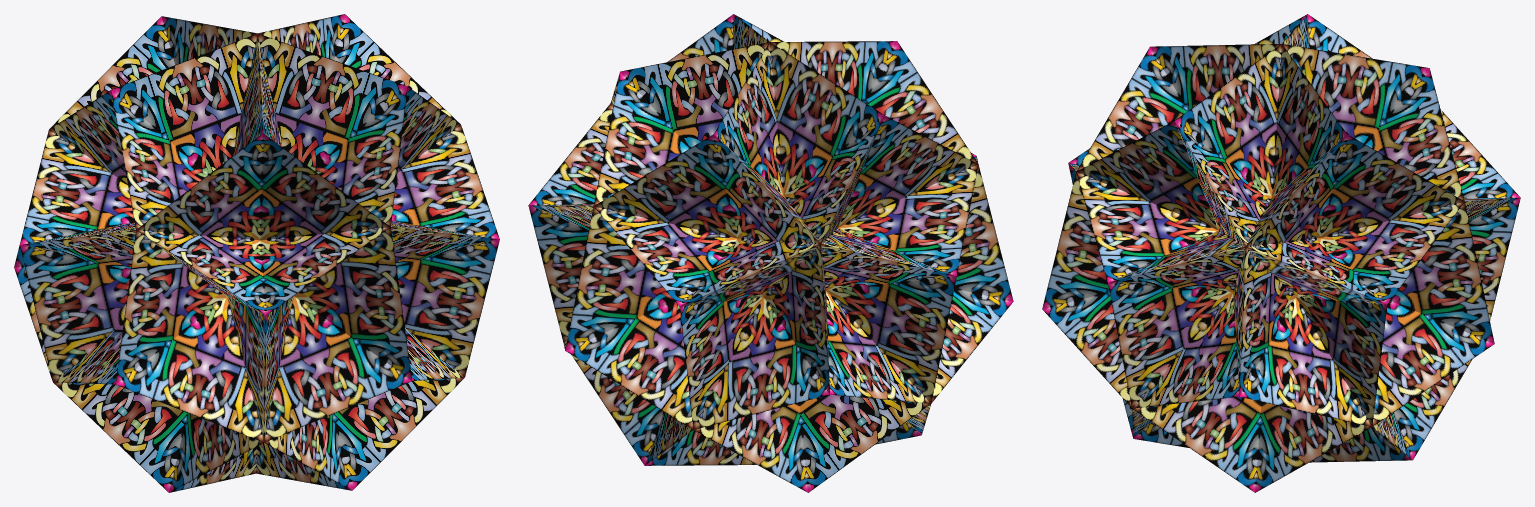
File: 33Mobius120b.obj
The picture shows the model from 3 angles, left to right: view 1: azimuth 30°, elevation 25°; view 2: azimuth 150°, elevation 25°; view 3: azimuth 270°, elevation 25°; orthographic projection. The views are drawn at different scales.
Bounding box in the file's own units: 3.09 × 3.02 × 3.11.
Materials: 1 (1 with a texture image).
